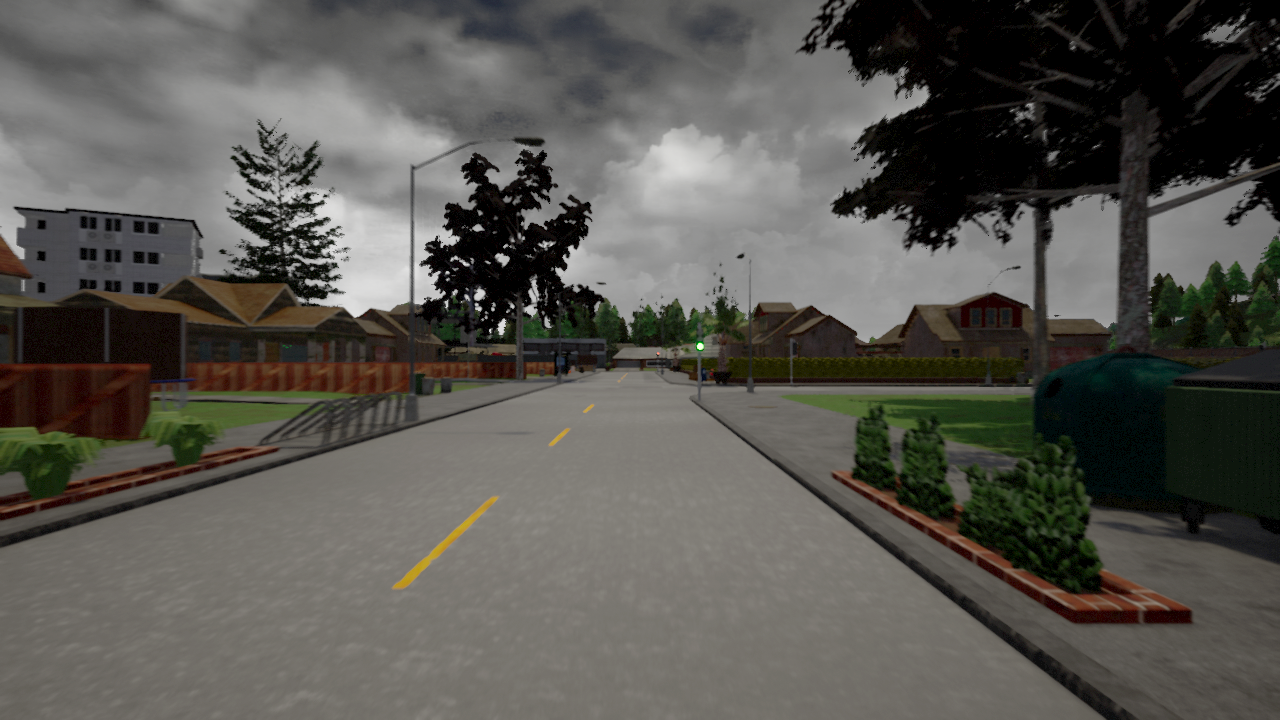green: (695, 328, 704, 351)
